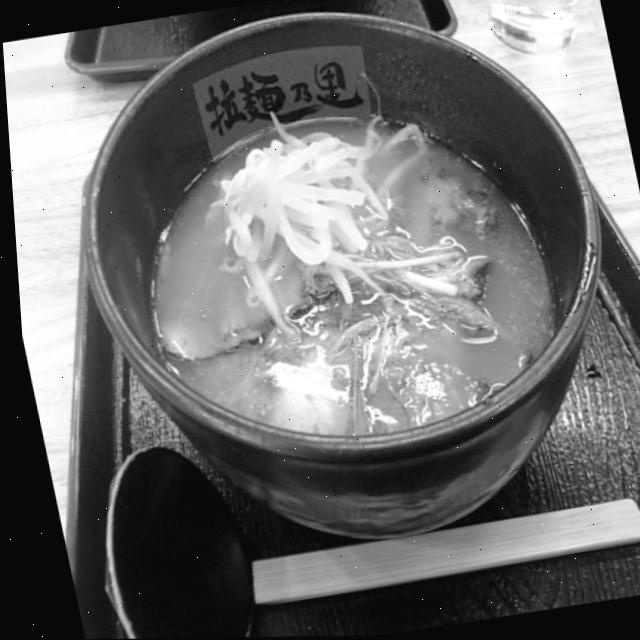面条主食: (91, 43, 598, 494)
